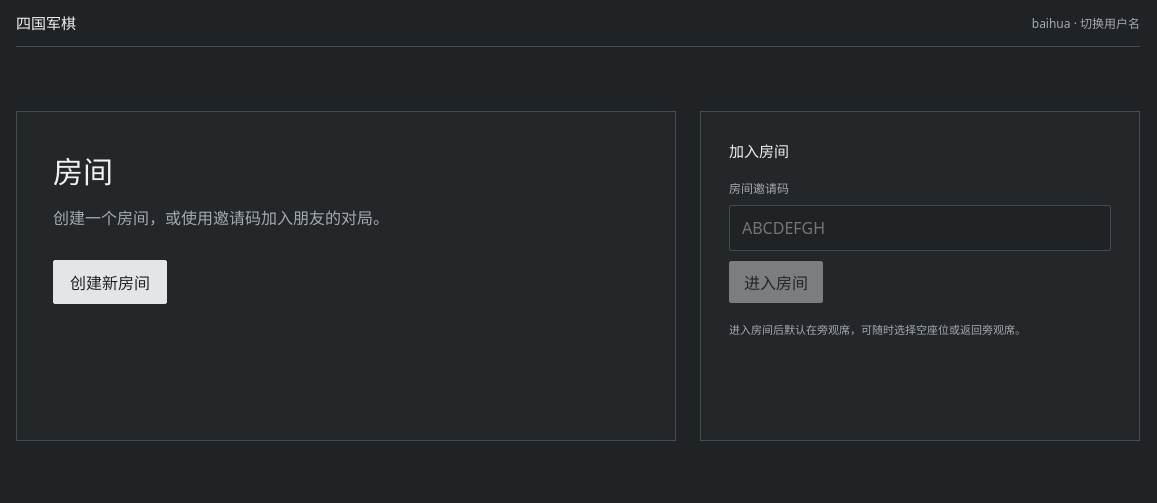
it: login and home screens › shows a configured room link and copies it
This screenshot has width=1157, height=503.
Step 1. Click the button "创建新房间" → [110, 282], box [53,260,167,304]
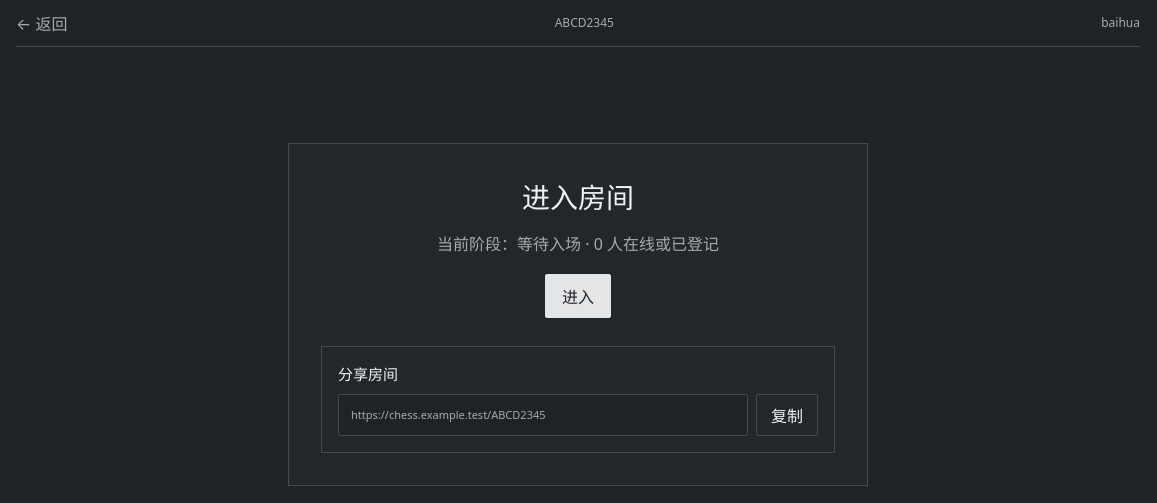
Expected: the field named "房间分享链接" holds "https://chess.example.test/ABCD2345", [338,394,748,436]
Step 2. Click the button "复制" → [787, 415], box [756,394,818,436]
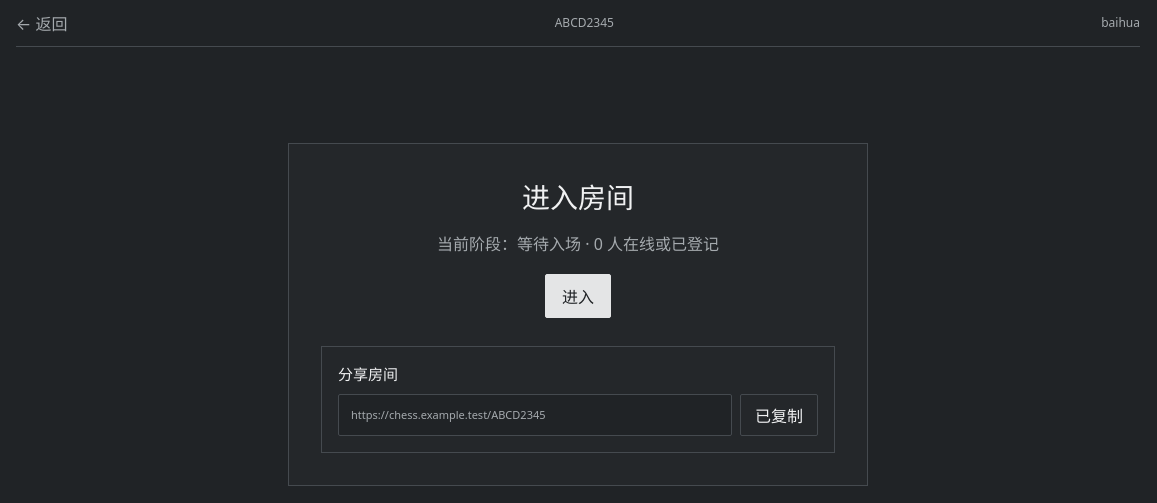
Expected: the text "已复制" is shown, [740,394,818,436]
